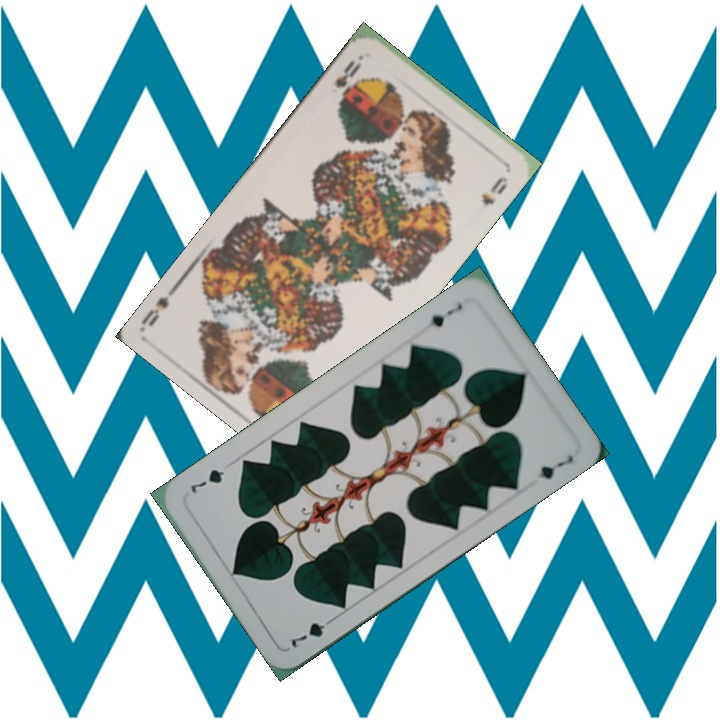G7: (284, 613, 339, 651), (425, 299, 465, 330)
SO: (330, 56, 365, 91)
